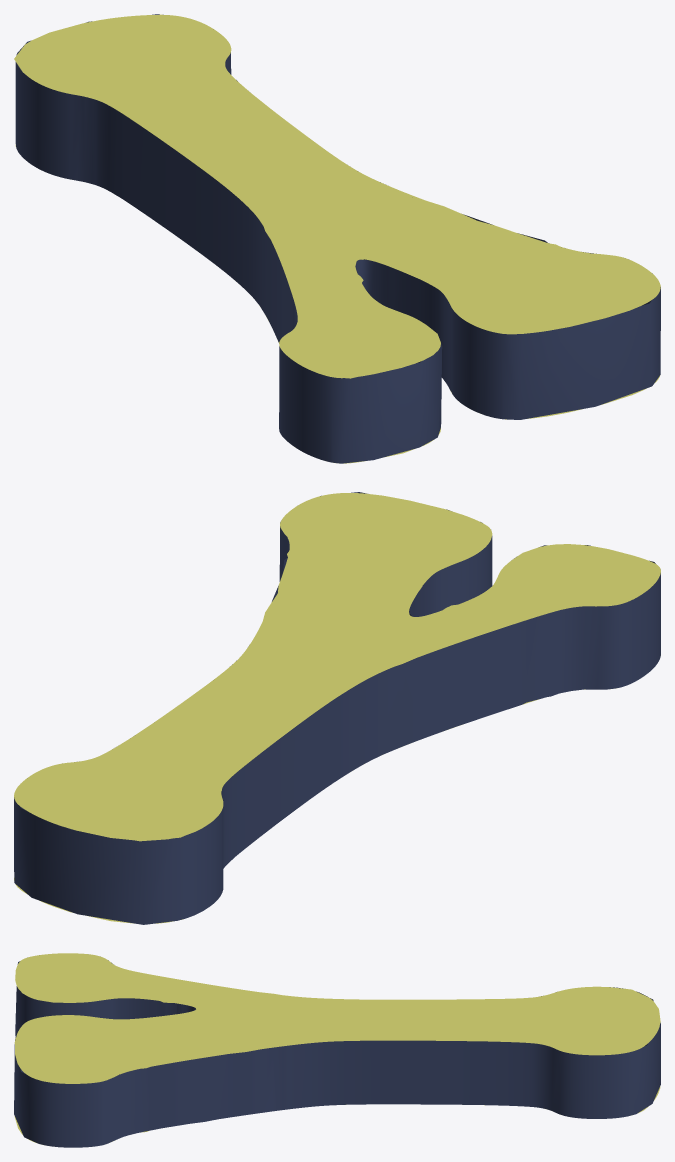
File: y_boss.fbx
3 renders of one model, top to bottom at view 1: azimuth 30°, elevation 25°; view 2: azimuth 150°, elevation 25°; view 3: azimuth 270°, elevation 25°, orthographic. The views are drawn at different scales.
Visible parts, largest first — view 1: Y; view 2: Y; view 3: Y.
Boxes of the visible parts, left/top/right/bottom form: Y: left=14, top=14, right=660, bottom=463; Y: left=14, top=492, right=660, bottom=924; Y: left=14, top=953, right=660, bottom=1147.
Bounding box in the file's own units: 0.7028 × 0.16 × 1.47.
